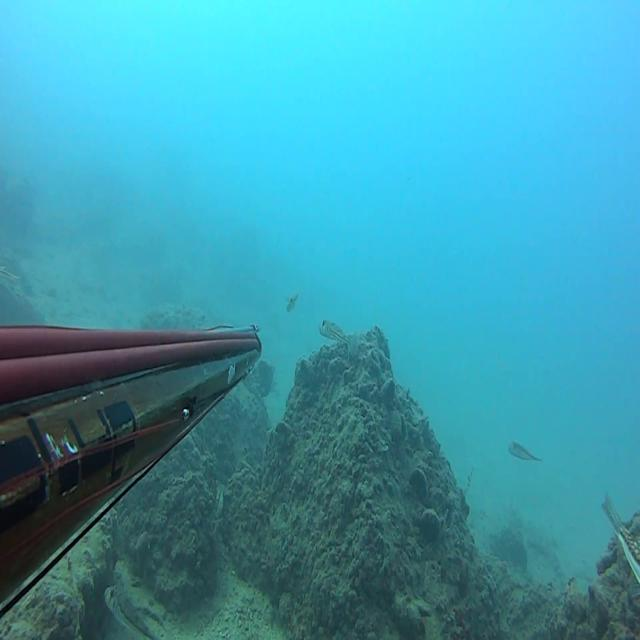Balon Baligi: (601, 492, 640, 583), (104, 586, 162, 640), (320, 320, 359, 358), (508, 442, 542, 462), (286, 293, 298, 313)
